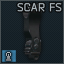FN SCAR front flip-up sight: (0, 0, 64, 64)
